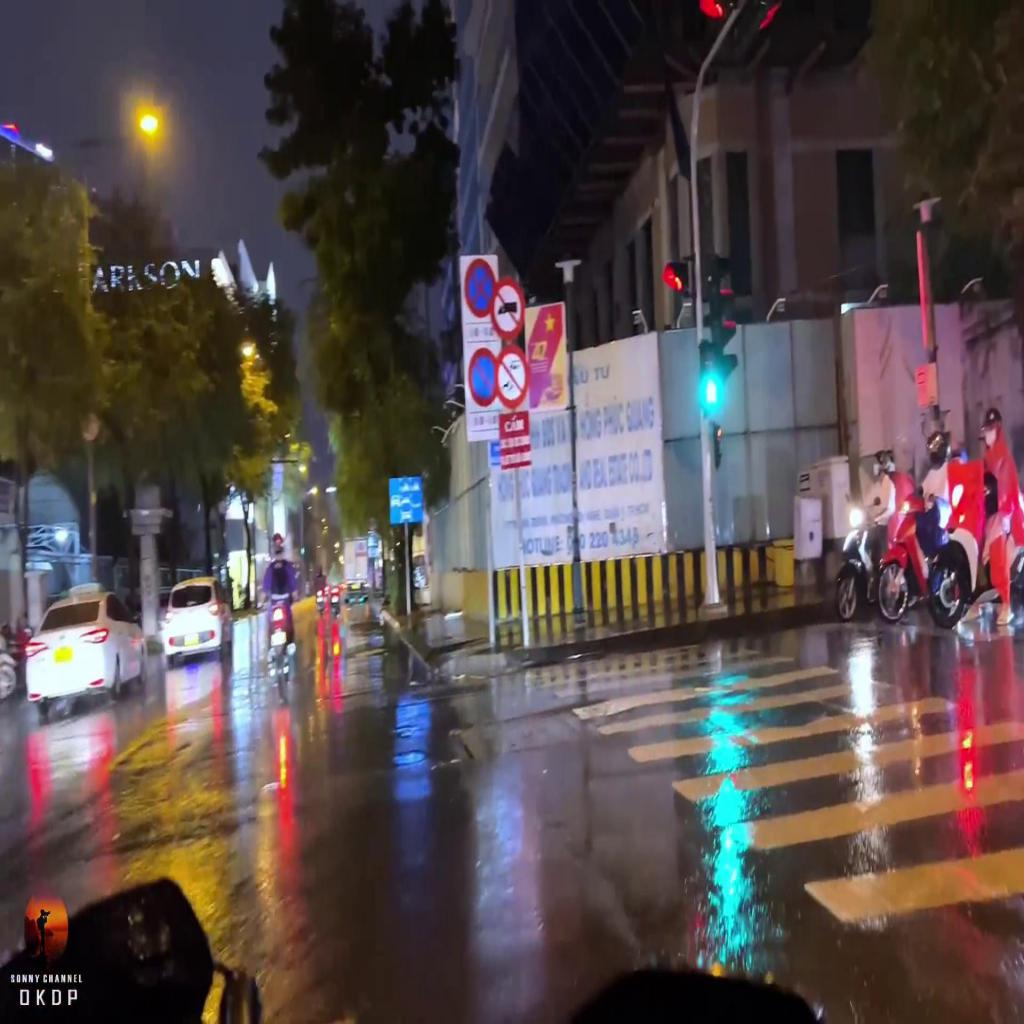cam_cac_loai_xe_3_banh: (495, 348, 526, 404)
cam_do_xe: (470, 352, 497, 403)
cam_dung_xe_va_do_xe: (464, 261, 493, 313)
cam_o_to_tai: (492, 280, 523, 338)
lan_duong_cho_tung_xe_theo_vach_ke_duong: (389, 477, 423, 523)
